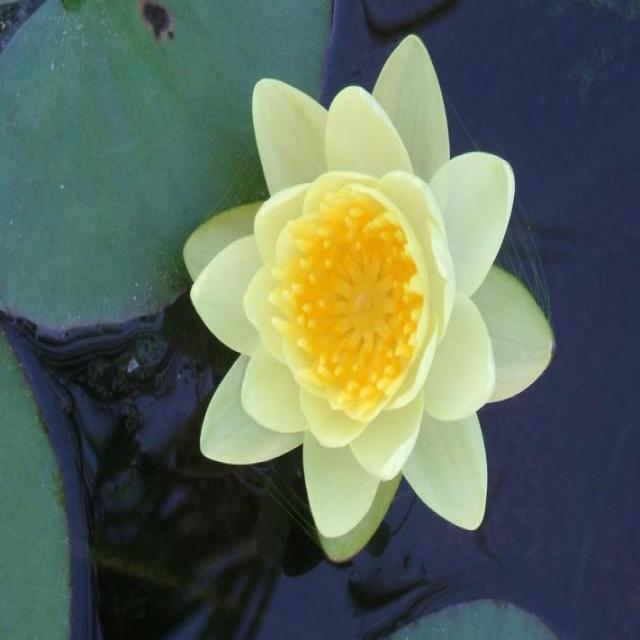water-lily: (179, 26, 571, 593)
